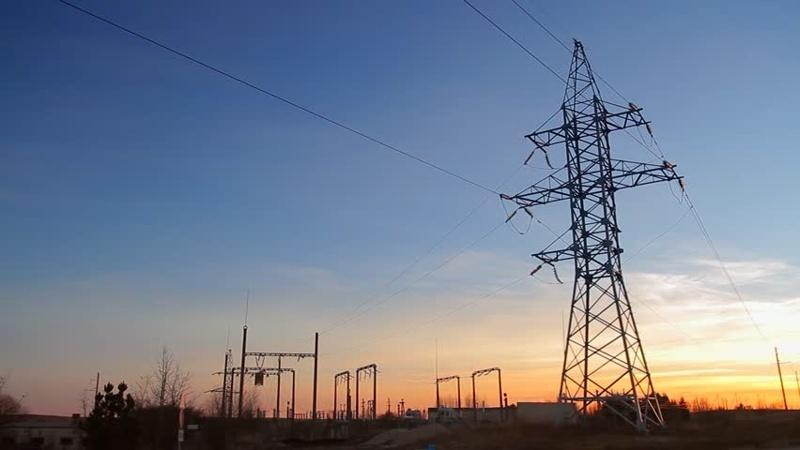power_tower: (519, 27, 686, 426)
